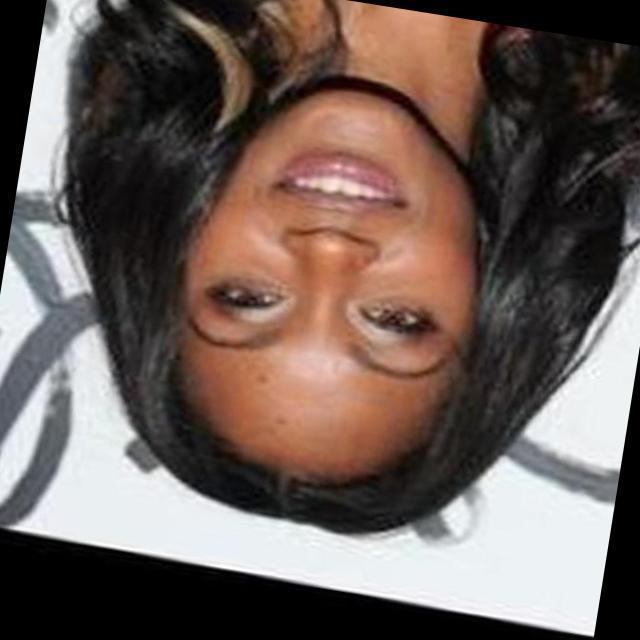bareface: (115, 74, 554, 526)
